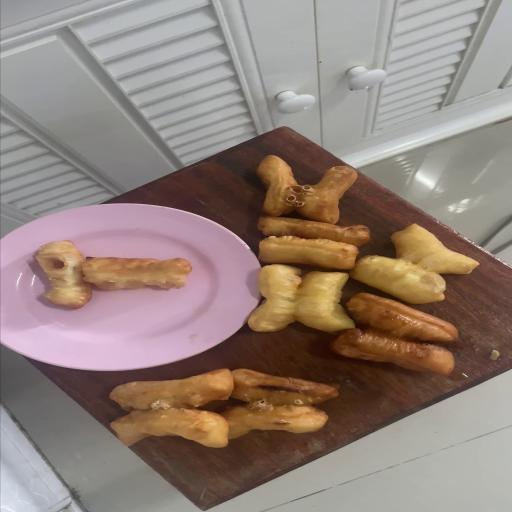street_burnt_defect: (81, 257, 193, 291)
street_golden_defect: (111, 369, 337, 447)
